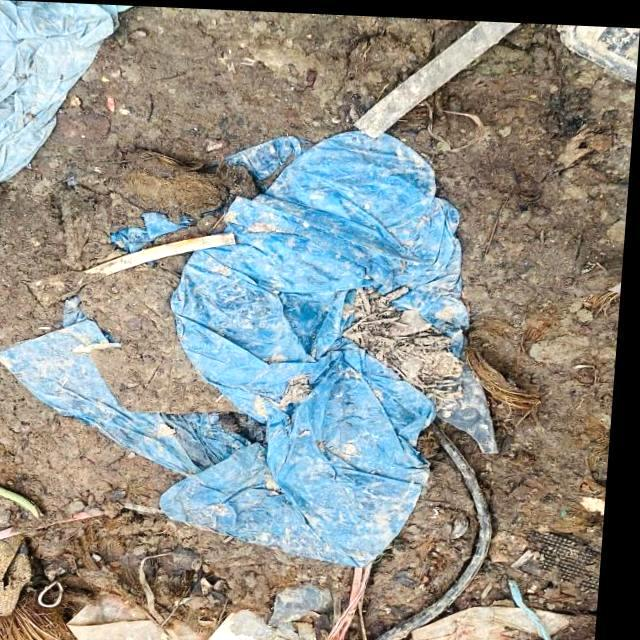polythene: (198, 146, 497, 573), (0, 14, 122, 188)
